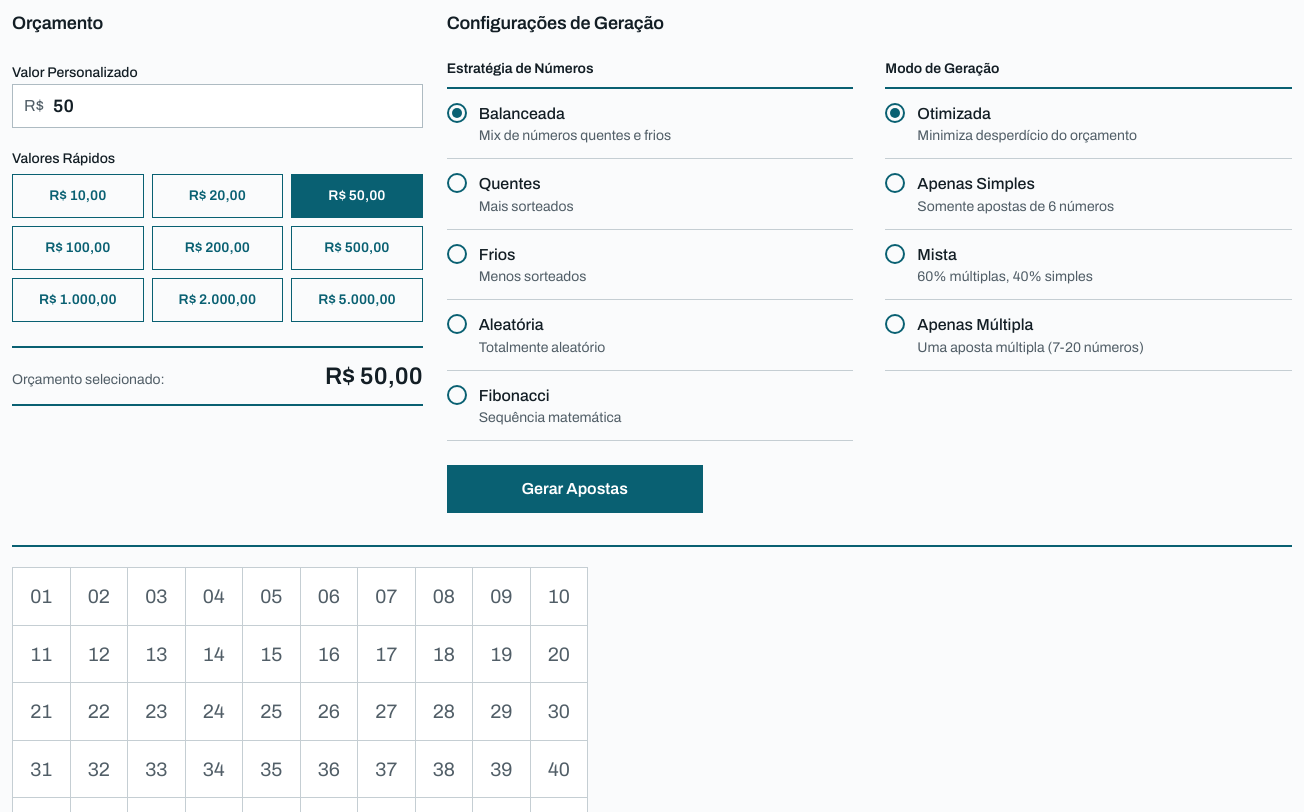
GeneratorForm › exibe erros esperados retornados pela ação sem depender de exceções RSC
Click the button "Gerar Apostas" at {"x": 575, "y": 490}, box left=447, top=466, right=703, bottom=514
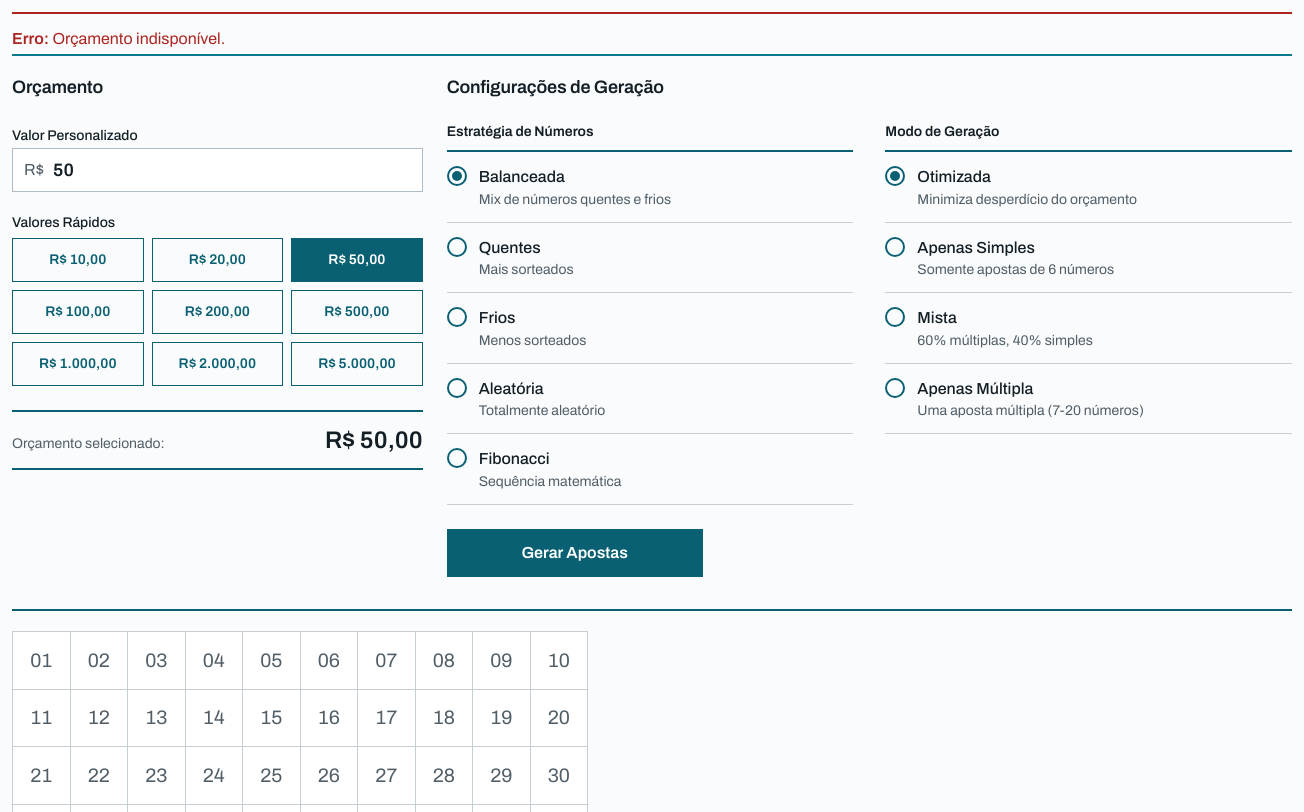
Expected: the message shows "Orçamento indisponível.", left=52, top=30, right=225, bottom=47
